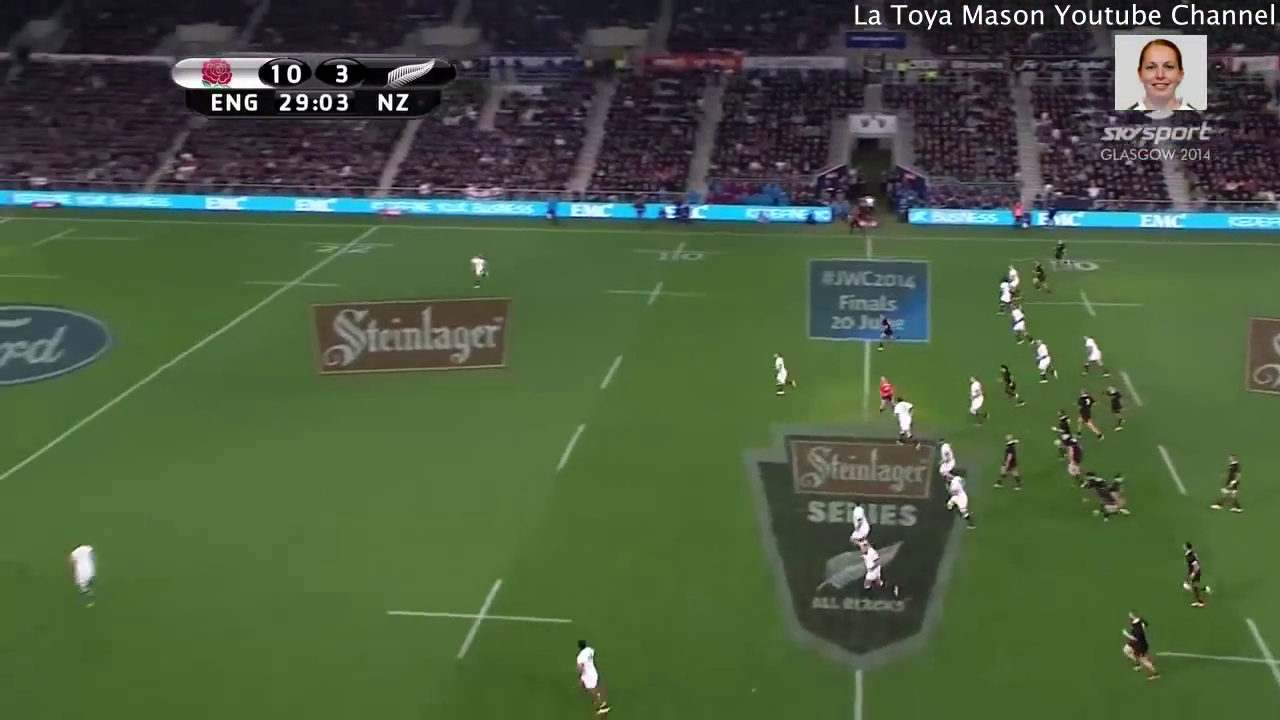10_metre: (385, 576, 577, 666), (1158, 612, 1280, 694), (1037, 284, 1143, 324), (626, 238, 727, 269), (608, 282, 704, 309)
player: (565, 636, 618, 716), (63, 538, 105, 612), (1176, 535, 1214, 612), (1118, 608, 1156, 678), (1212, 447, 1245, 518), (942, 473, 979, 531), (993, 432, 1022, 498), (767, 351, 801, 407), (861, 544, 893, 596), (845, 502, 875, 552), (1104, 380, 1130, 435), (1106, 460, 1127, 526), (1076, 329, 1107, 373), (1081, 466, 1107, 518), (998, 364, 1026, 412), (963, 375, 988, 426), (1031, 336, 1057, 385), (893, 397, 916, 448), (1005, 304, 1031, 348), (1061, 435, 1082, 482), (1073, 390, 1094, 434), (469, 250, 489, 292), (876, 310, 897, 349), (934, 438, 957, 473), (1027, 256, 1049, 291), (877, 372, 897, 410), (1049, 239, 1066, 269), (1005, 264, 1021, 293), (1051, 408, 1068, 434), (995, 280, 1008, 312)
